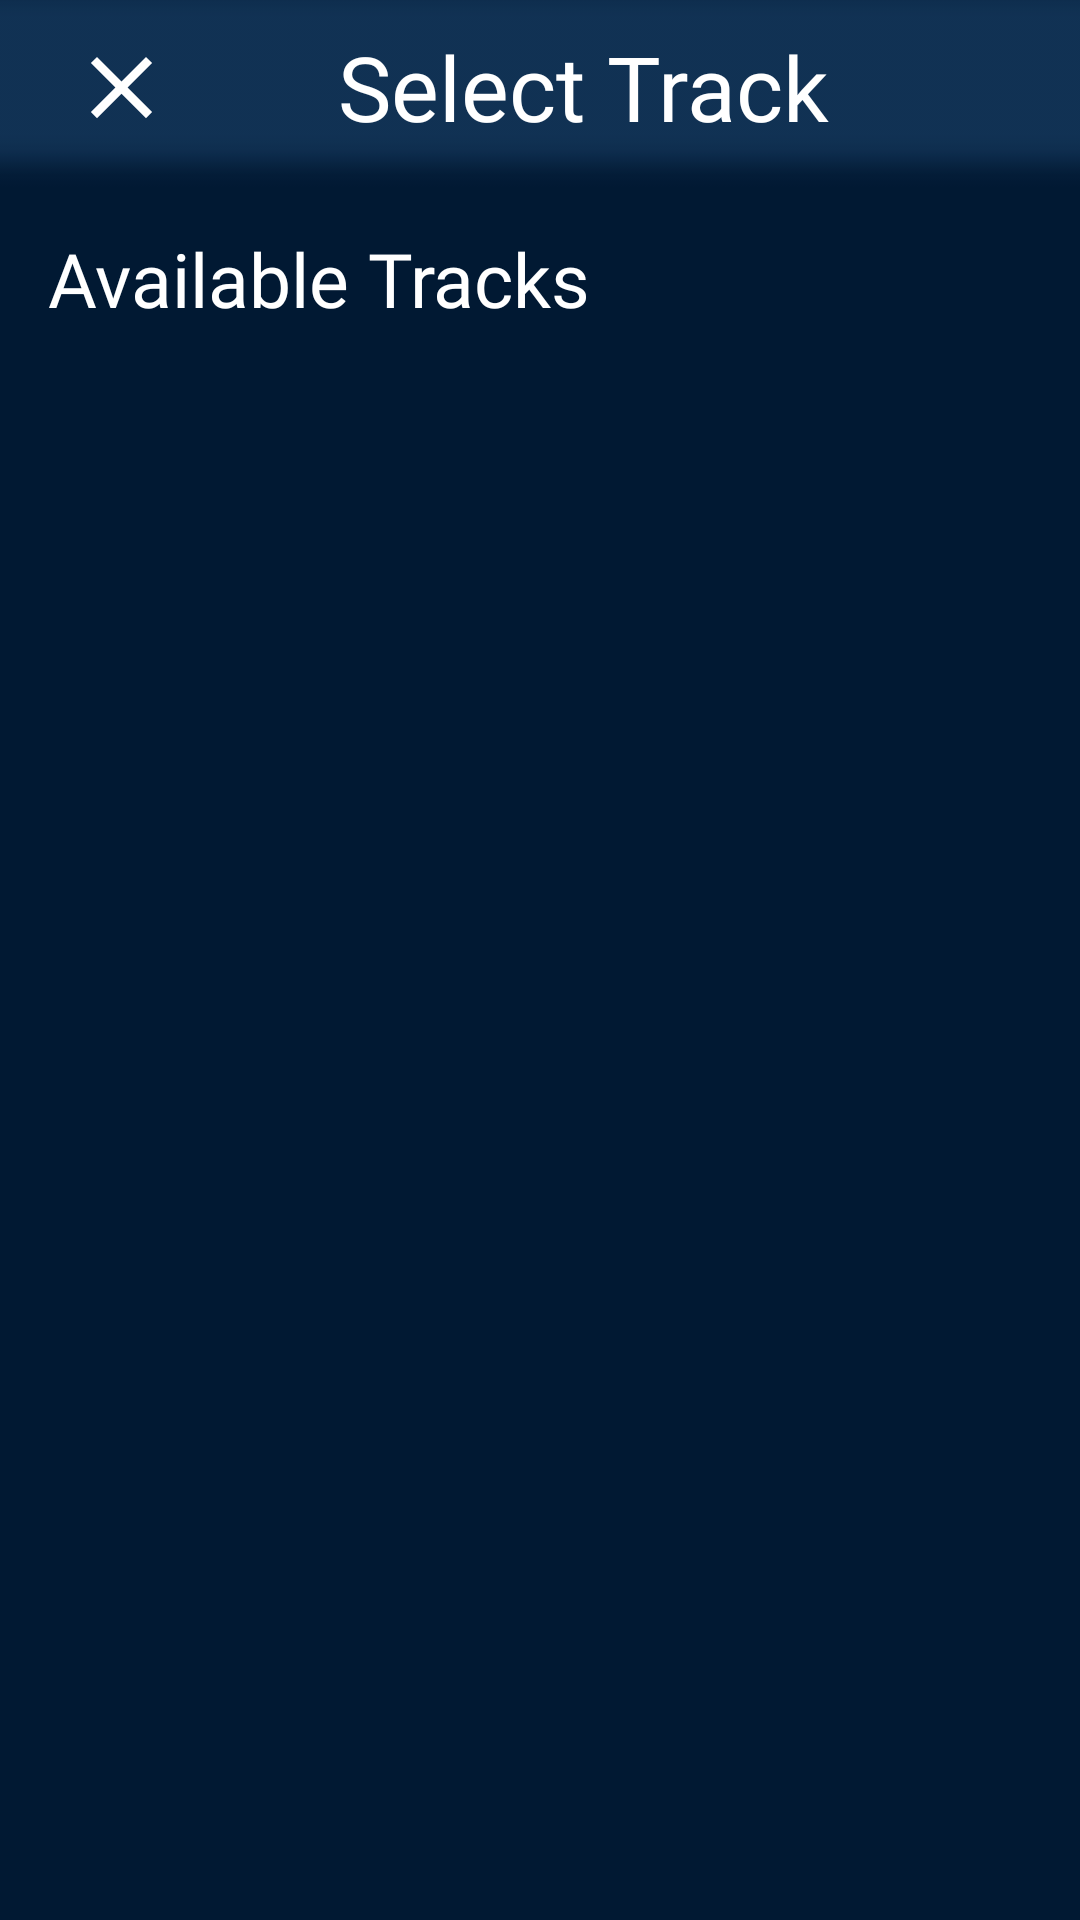

Named icons in this screenshot (1080px x 1920px) and their centers, point (x, y):
close: point (121, 87)
